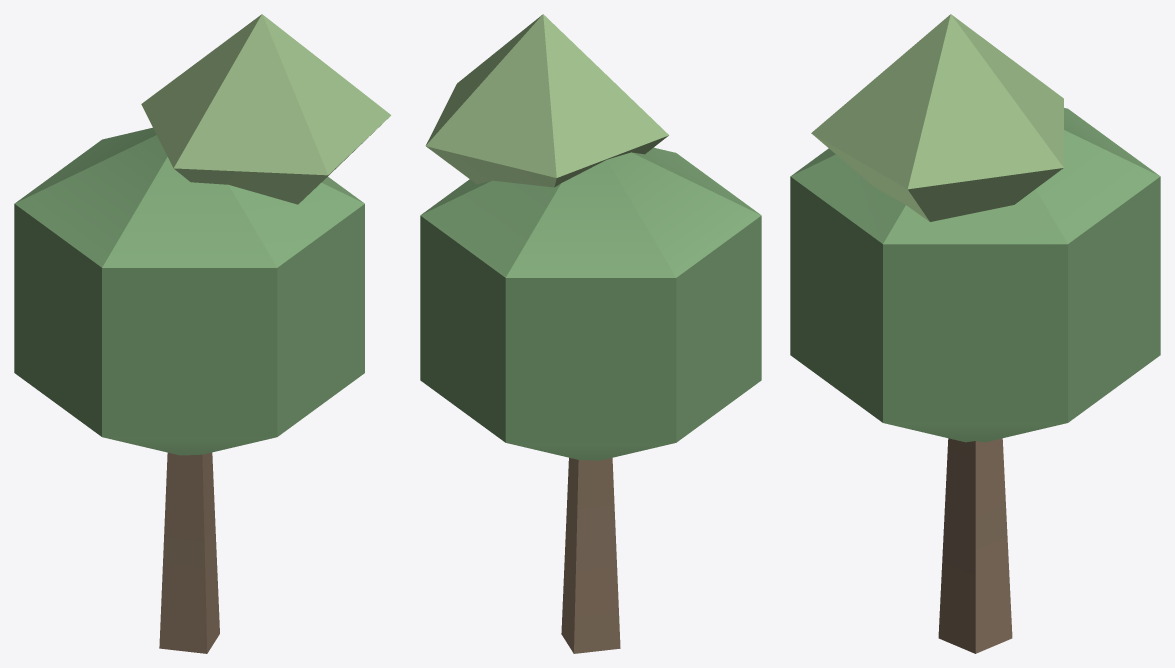
Rendered from tree.glb.
3 renders of one model, left to right at view 1: azimuth 30°, elevation 25°; view 2: azimuth 150°, elevation 25°; view 3: azimuth 270°, elevation 25°, orthographic. The views are drawn at different scales.
Visible parts, largest first — view 1: tree; view 2: tree; view 3: tree.
Boxes of the visible parts, x1=… form: tree: x1=14, y1=14, x2=391, y2=653; tree: x1=420, y1=14, x2=761, y2=653; tree: x1=790, y1=14, x2=1160, y2=653.
Bounding box in the file's own units: 4.47 × 8.8 × 4.5.
